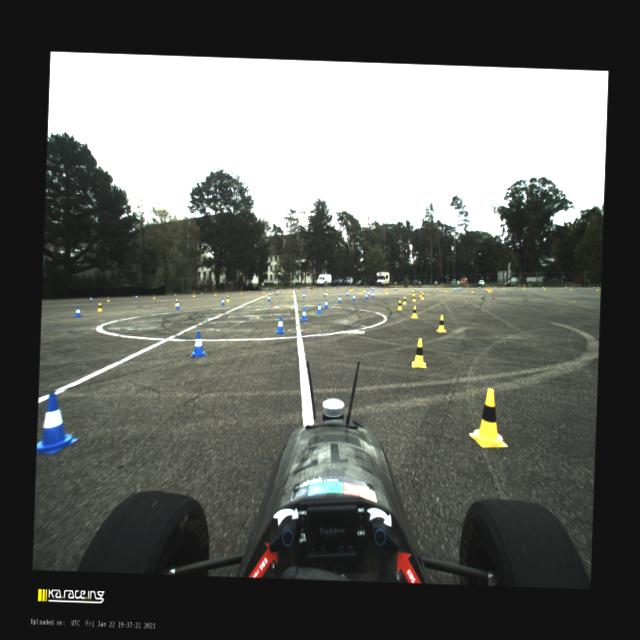blue_cone: (36, 394, 79, 454), (190, 331, 208, 358), (274, 315, 286, 334), (300, 307, 307, 321), (74, 306, 82, 316), (316, 302, 322, 314), (323, 298, 328, 308), (175, 301, 180, 309), (338, 294, 342, 302), (352, 292, 356, 300), (220, 297, 224, 305), (364, 292, 368, 299), (322, 290, 326, 296), (302, 292, 306, 298), (371, 292, 374, 298), (346, 290, 349, 296), (267, 294, 270, 300), (366, 290, 369, 296), (452, 287, 456, 291), (89, 296, 92, 300), (134, 294, 137, 298), (225, 290, 228, 294), (456, 286, 459, 290), (174, 292, 176, 296), (200, 292, 202, 296), (394, 286, 396, 290), (564, 285, 566, 289), (579, 286, 581, 290)
yellow_cone: (468, 388, 510, 448), (411, 337, 427, 368), (435, 314, 447, 332), (411, 304, 418, 318), (396, 300, 402, 310), (96, 302, 102, 312), (402, 296, 407, 304), (412, 294, 416, 302), (420, 292, 424, 300), (226, 294, 230, 302), (384, 288, 388, 294), (174, 298, 177, 306), (290, 290, 294, 296), (106, 296, 110, 301), (358, 288, 361, 294), (419, 290, 422, 296), (192, 292, 195, 297), (214, 291, 217, 296), (152, 294, 155, 298), (348, 287, 351, 291), (326, 289, 328, 294), (362, 287, 364, 292), (412, 289, 414, 294), (444, 288, 446, 292), (240, 290, 242, 294), (262, 289, 264, 293), (350, 286, 352, 290), (411, 286, 413, 290), (470, 288, 472, 292), (570, 286, 572, 290), (596, 286, 598, 290)
